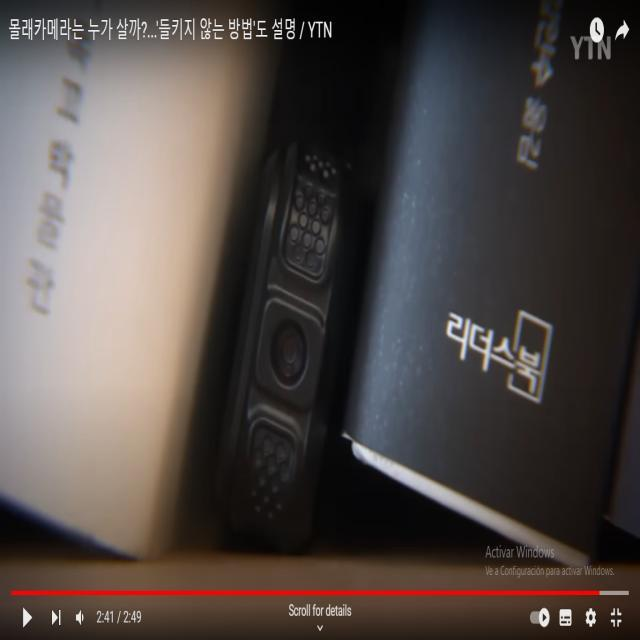hidden camera: (281, 328, 299, 367)
